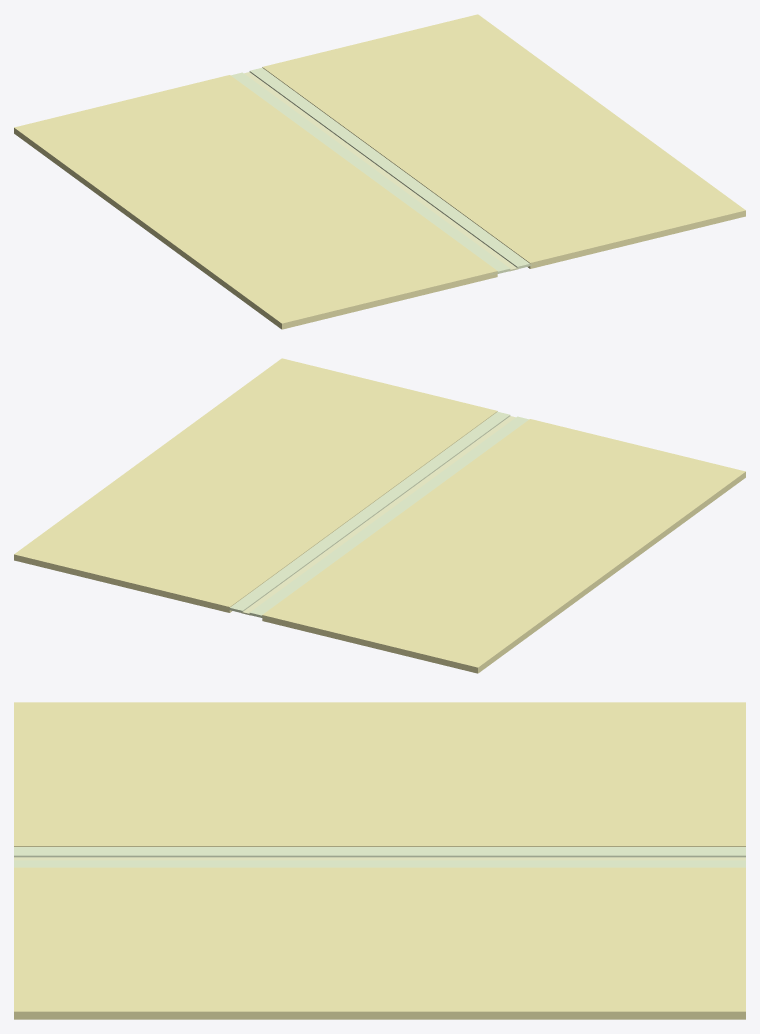
Rendered from road_bridge_expansion_joint.glb.
3 views of the same model, one above another, from view 1: azimuth 30°, elevation 25°; view 2: azimuth 150°, elevation 25°; view 3: azimuth 270°, elevation 25° (orthographic). The views are drawn at different scales.
Visible parts, largest first — view 1: deck_left, deck_right, joint_plate_right, joint_plate_left, joint_gap; view 2: deck_left, deck_right, joint_plate_right, joint_plate_left, joint_gap; view 3: deck_right, deck_left, joint_plate_left, joint_plate_right, joint_gap.
Part boxes in pixels (bbox=[...]): deck_left: bbox=[14, 75, 497, 329]; deck_right: bbox=[262, 14, 745, 268]; joint_plate_right: bbox=[249, 67, 537, 268]; joint_plate_left: bbox=[231, 72, 510, 274]; joint_gap: bbox=[244, 72, 518, 271]; deck_left: bbox=[262, 419, 745, 673]; deck_right: bbox=[14, 358, 497, 612]; joint_plate_right: bbox=[229, 411, 510, 612]; joint_plate_left: bbox=[249, 416, 528, 619]; joint_gap: bbox=[241, 416, 515, 615]; deck_right: bbox=[14, 867, 745, 1019]; deck_left: bbox=[14, 702, 745, 846]; joint_plate_left: bbox=[14, 847, 745, 857]; joint_plate_right: bbox=[14, 860, 745, 867]; joint_gap: bbox=[14, 857, 745, 860].
Size of the model in its own units: 4 by 0.05 by 4.
